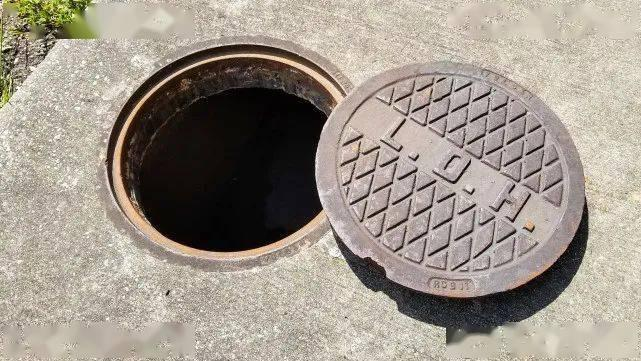wellcover: (93, 26, 611, 317)
